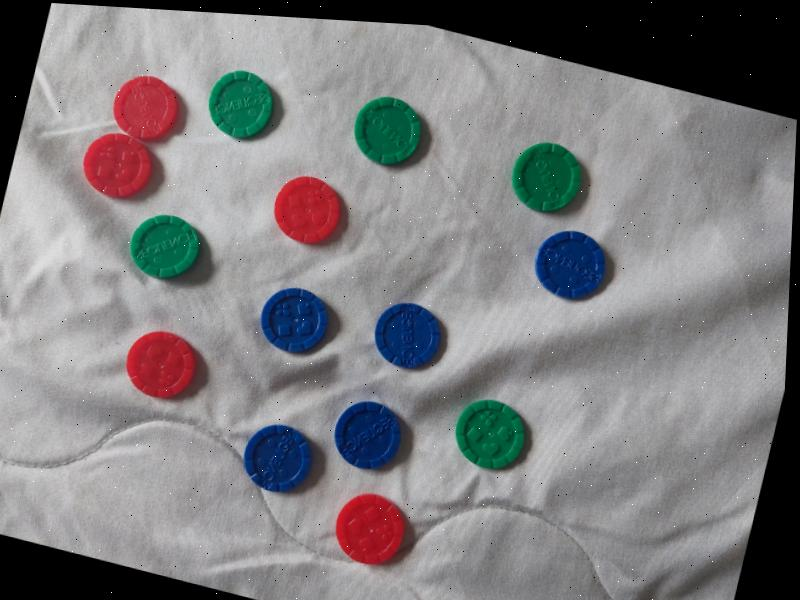Blue_Token: (518, 215, 621, 314), (362, 290, 455, 382), (231, 410, 322, 502), (324, 390, 411, 484), (248, 274, 337, 364)
Green_Token: (438, 384, 543, 481), (339, 84, 434, 177), (500, 130, 592, 224), (118, 202, 212, 293), (195, 57, 283, 148)
Red_Token: (112, 317, 207, 412), (66, 120, 165, 211), (258, 162, 352, 257), (324, 483, 416, 577), (100, 61, 190, 150)
